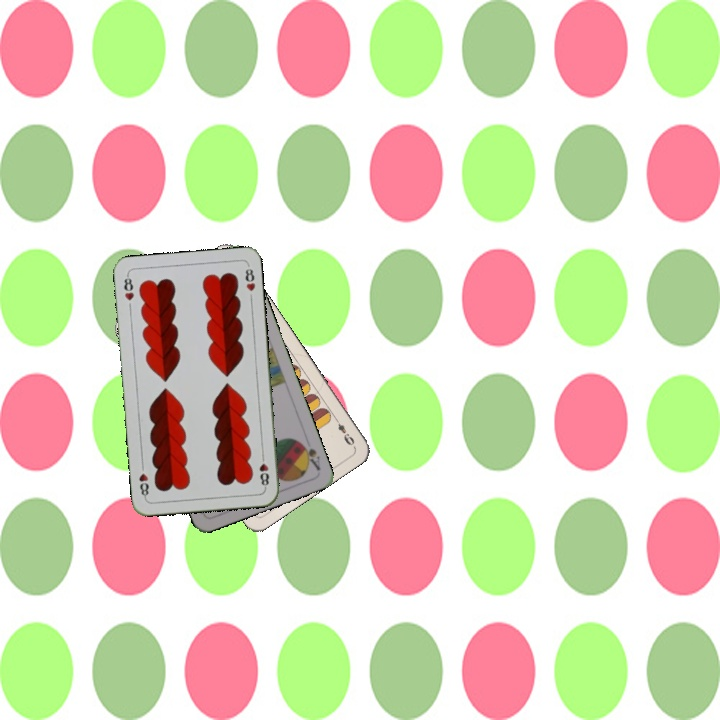E9: (330, 413, 357, 448)
H8: (255, 450, 271, 490), (120, 271, 137, 303)
SA: (295, 437, 323, 473)
